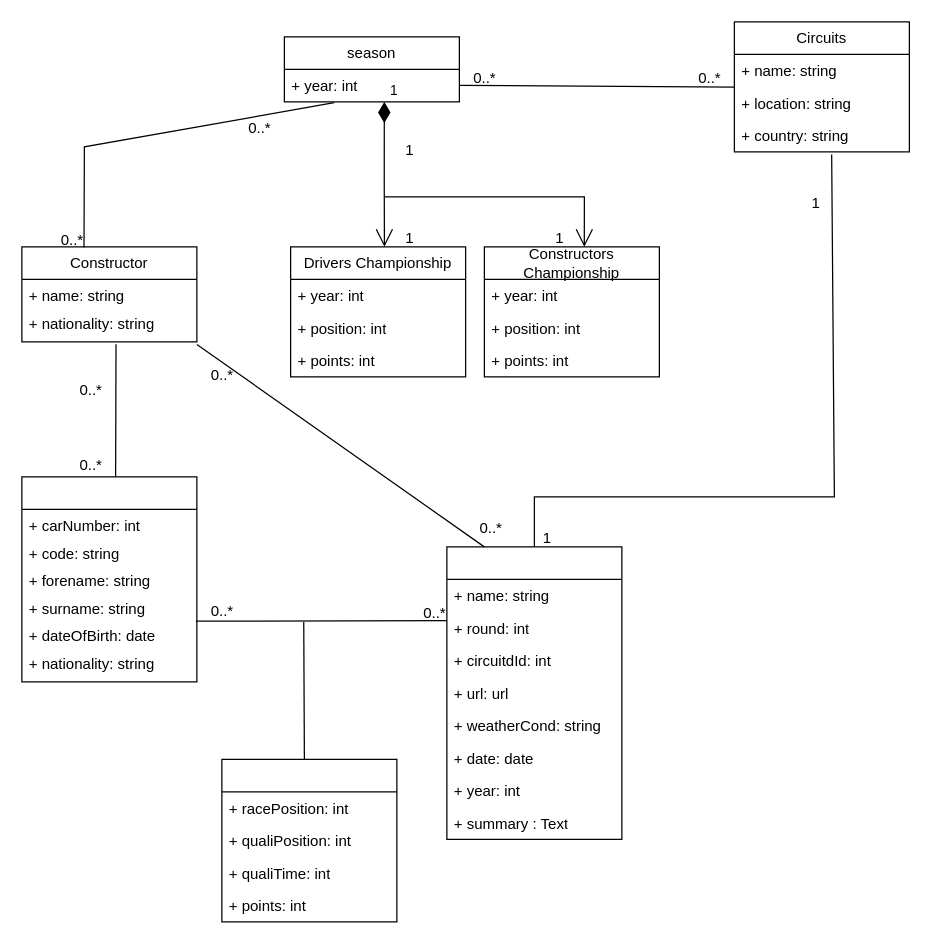
The diagram is 931 pixels wide and 948 high, and some of its shapes have lost their labels. The box of each missing label's shape, as (x1, y1, x2, y2) in pixels:
Driver: (21, 476, 197, 682)
Grand Prix Weekened: (446, 546, 622, 839)
Race Results: (221, 758, 397, 922)
